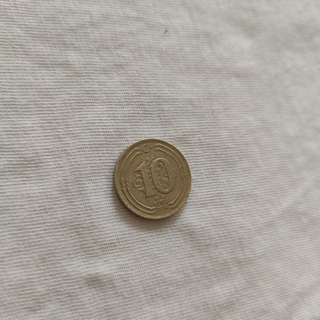10KURUS: (110, 137, 193, 222)
